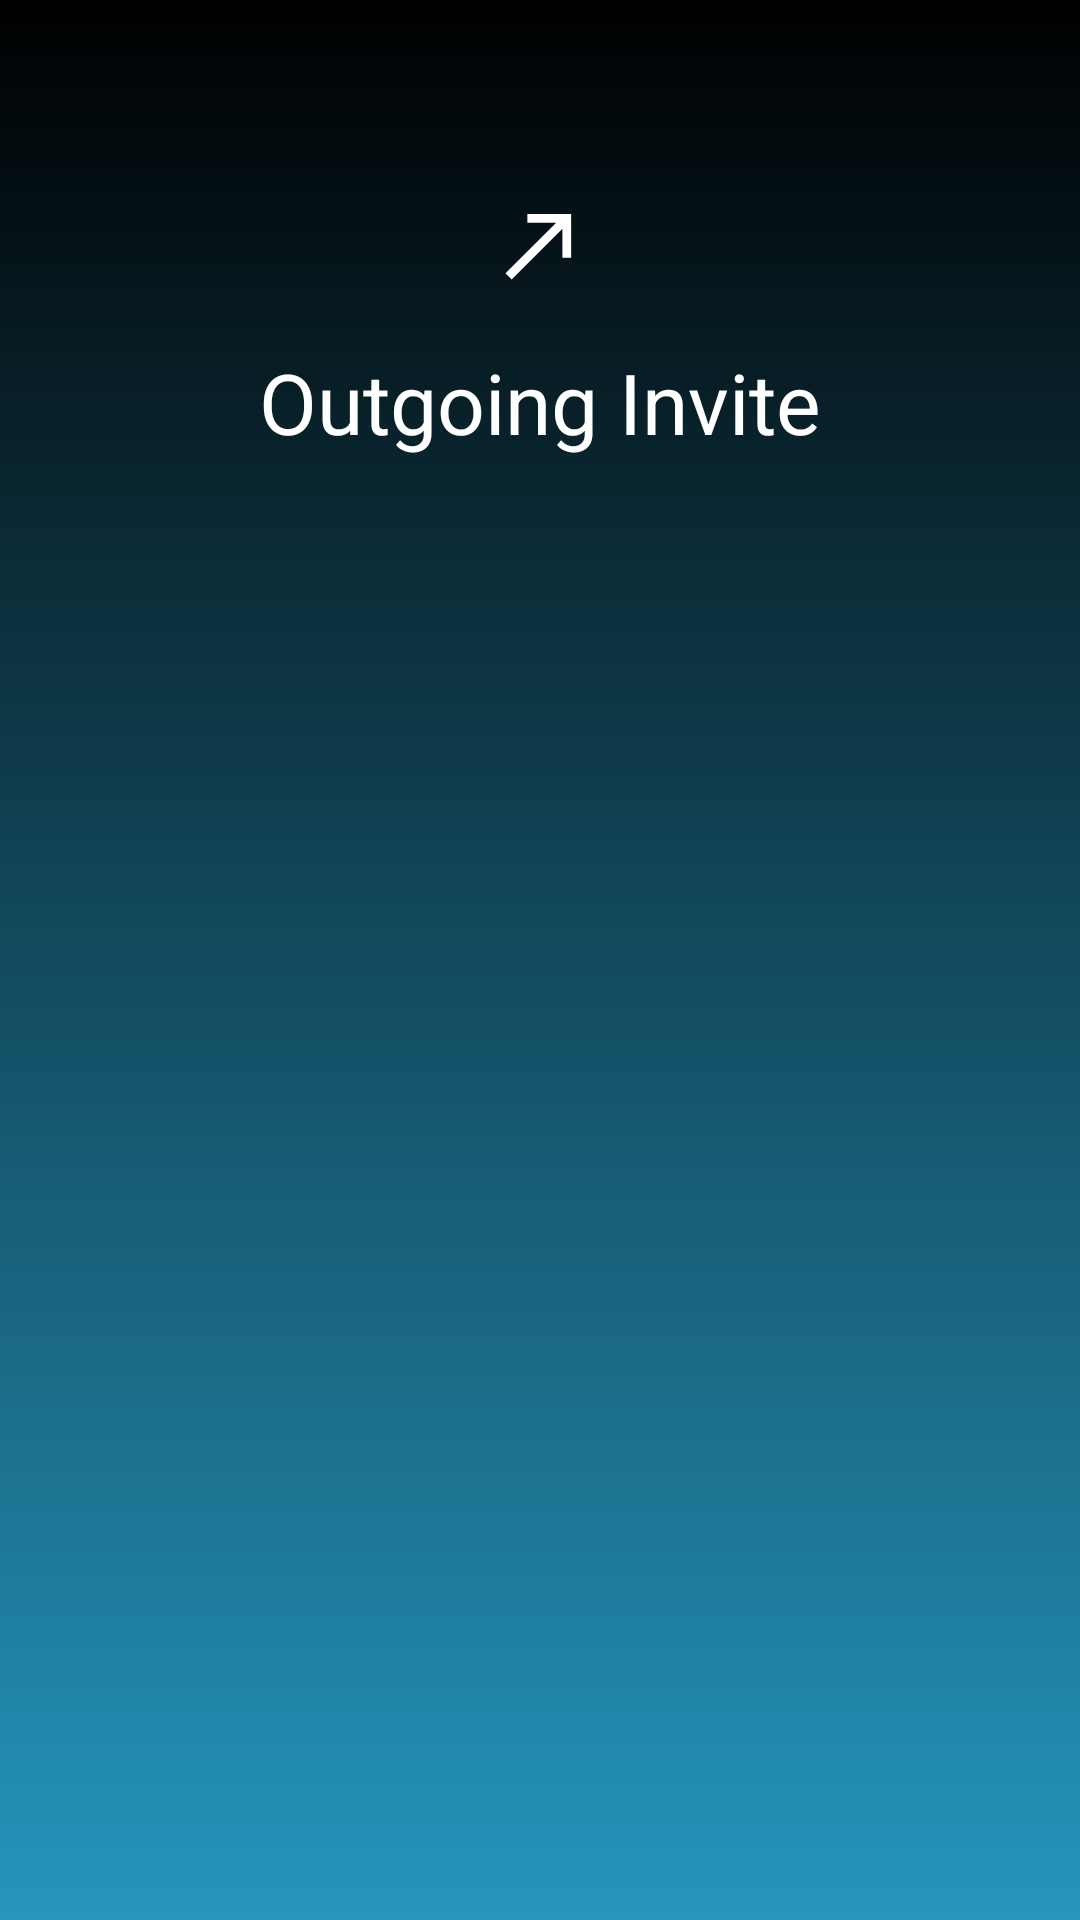

Screen size 1080*1920. Icon name, then its box in pixels as (x1, y1, x2, y2):
call send: (505, 214, 572, 280)
